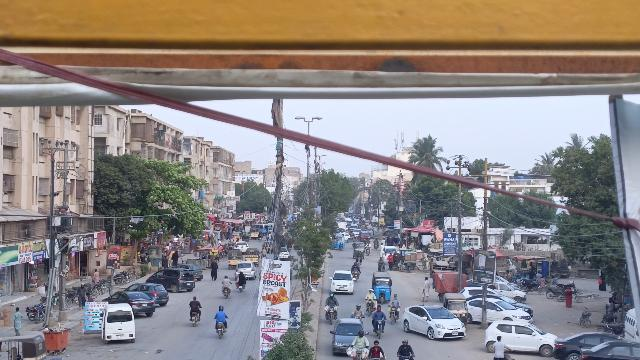Bike: (577, 306, 594, 328), (387, 304, 400, 327), (373, 316, 386, 338), (325, 305, 338, 326), (214, 320, 226, 342), (189, 309, 199, 330), (353, 344, 365, 360), (365, 298, 374, 317), (220, 287, 231, 301), (351, 269, 361, 284), (235, 284, 247, 293), (377, 263, 386, 271)
Car: (483, 319, 557, 356), (402, 304, 467, 340), (552, 331, 618, 360), (466, 297, 533, 325), (100, 291, 155, 317), (328, 316, 362, 355), (146, 267, 196, 293), (579, 340, 640, 360), (124, 282, 169, 306), (328, 269, 356, 296), (234, 261, 258, 280)
Person: (489, 334, 506, 360), (351, 329, 370, 349), (74, 281, 87, 310), (396, 337, 415, 356), (12, 306, 23, 335), (420, 275, 431, 303), (369, 340, 384, 359), (213, 304, 227, 324), (209, 258, 219, 282), (350, 303, 365, 318), (187, 295, 201, 311), (325, 293, 339, 307), (373, 305, 385, 320), (389, 292, 401, 307), (364, 288, 376, 300), (221, 274, 231, 288), (236, 270, 246, 284), (351, 260, 361, 271), (377, 256, 385, 264)
Rickshaw: (0, 334, 48, 360), (441, 292, 470, 329), (371, 271, 392, 303), (227, 248, 243, 270), (244, 247, 260, 266), (351, 241, 366, 260)
Van: (99, 302, 137, 344)
